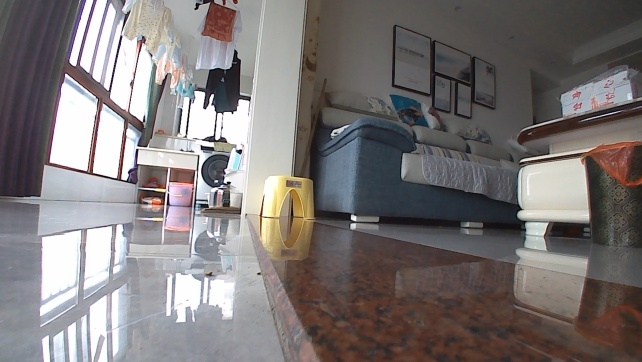sofa: (312, 85, 535, 230)
tea_table1: (513, 95, 641, 239)
washing_machine: (195, 145, 236, 207)
